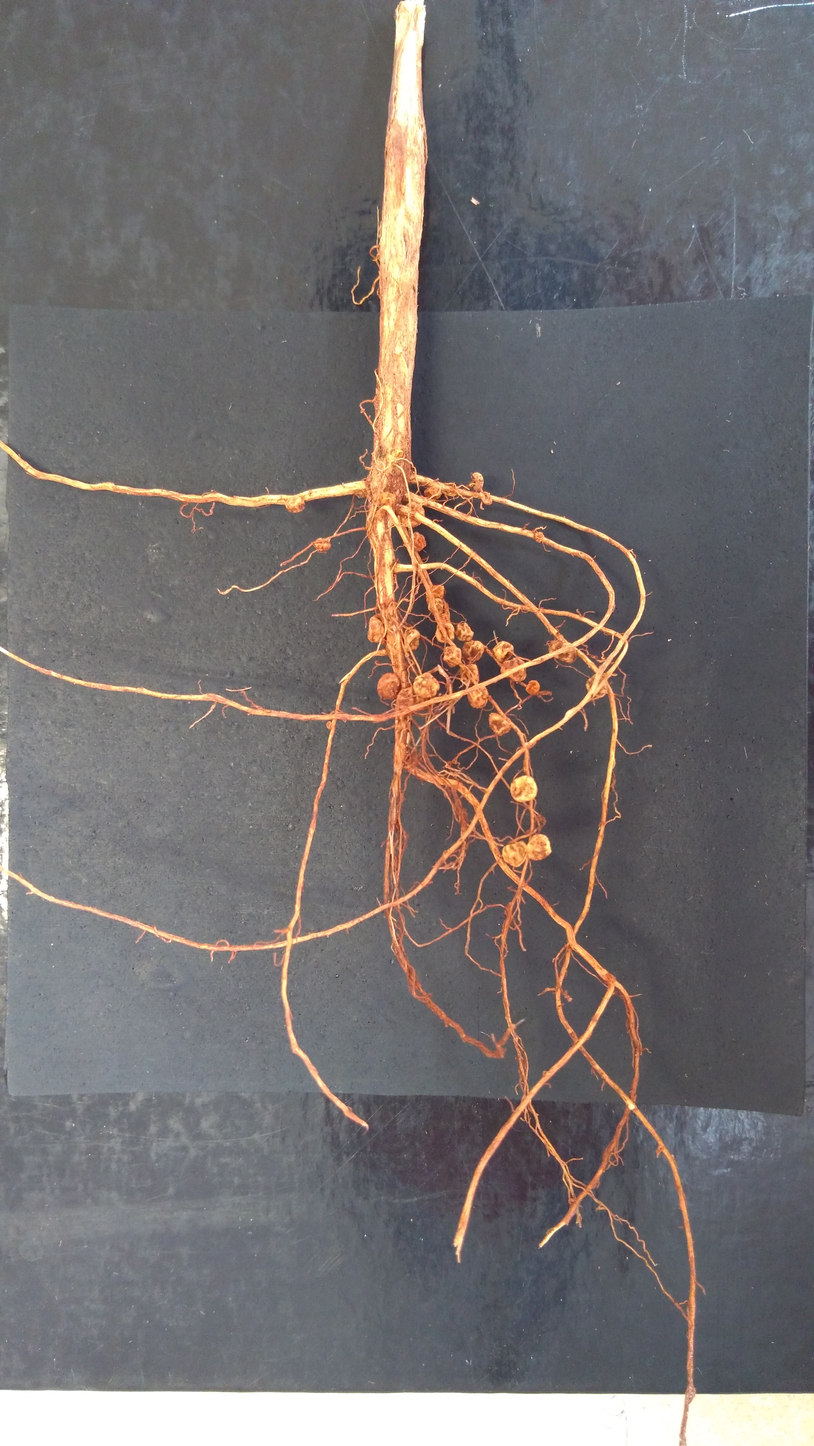nodule: (398, 686, 427, 713), (511, 775, 537, 802), (413, 672, 439, 698), (500, 657, 527, 682), (527, 834, 552, 860), (503, 841, 527, 867), (377, 673, 400, 700), (401, 501, 424, 528), (367, 613, 387, 642), (586, 673, 608, 698), (488, 713, 511, 736), (467, 685, 488, 709), (462, 640, 484, 662), (493, 641, 514, 663), (434, 623, 454, 643), (403, 629, 420, 652), (460, 664, 479, 684), (443, 647, 461, 668), (559, 643, 577, 664), (456, 622, 473, 642), (285, 496, 305, 513), (411, 532, 426, 552), (548, 640, 563, 659), (426, 585, 444, 599), (428, 598, 443, 614), (314, 538, 331, 552), (424, 486, 442, 499), (472, 472, 484, 491), (379, 491, 395, 505), (526, 680, 540, 694), (442, 483, 457, 496), (480, 492, 493, 505), (353, 488, 365, 499), (437, 613, 449, 623), (535, 532, 543, 543), (375, 510, 383, 521), (325, 720, 331, 730), (342, 716, 346, 722)
